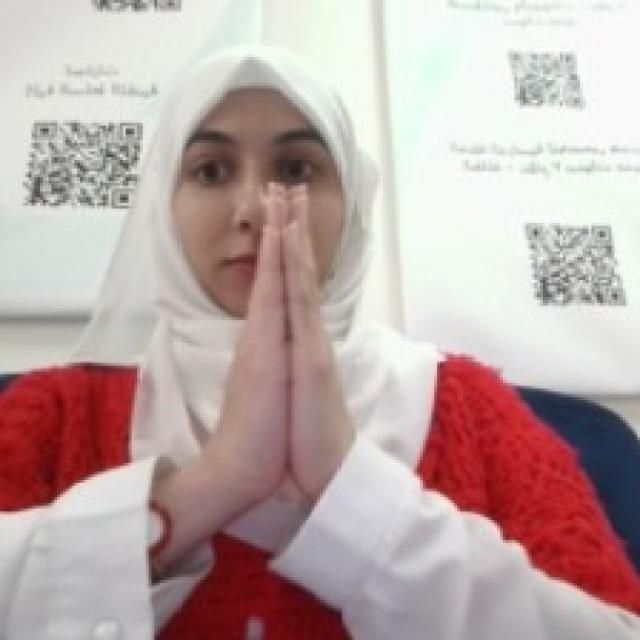sorry: (214, 183, 354, 497)
